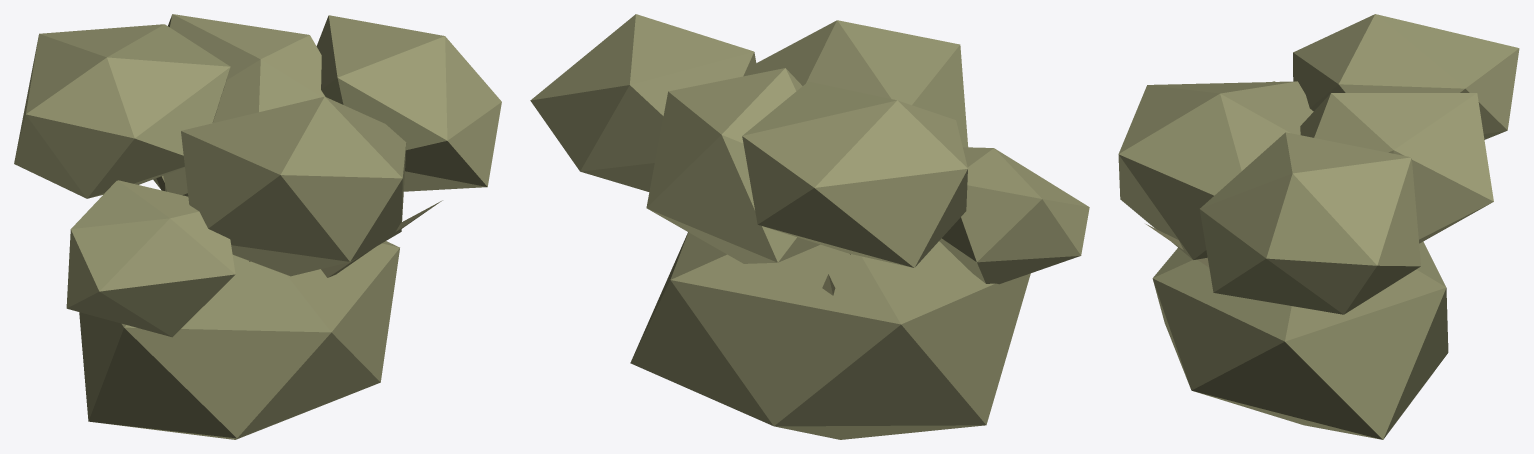
The model's file is scrub_3.glb.
3 renders of one model, left to right at view 1: azimuth 30°, elevation 25°; view 2: azimuth 150°, elevation 25°; view 3: azimuth 270°, elevation 25°, orthographic. The views are drawn at different scales.
Parts seen in each view (by area): view 1: scrub_3.001; view 2: scrub_3.001; view 3: scrub_3.001.
Boxes of the visible parts, bbox=[...] form: scrub_3.001: bbox=[14, 14, 501, 439]; scrub_3.001: bbox=[530, 14, 1089, 439]; scrub_3.001: bbox=[1118, 14, 1519, 439].
Size of the model in its own units: 1.41 by 1.1 by 1.09.
